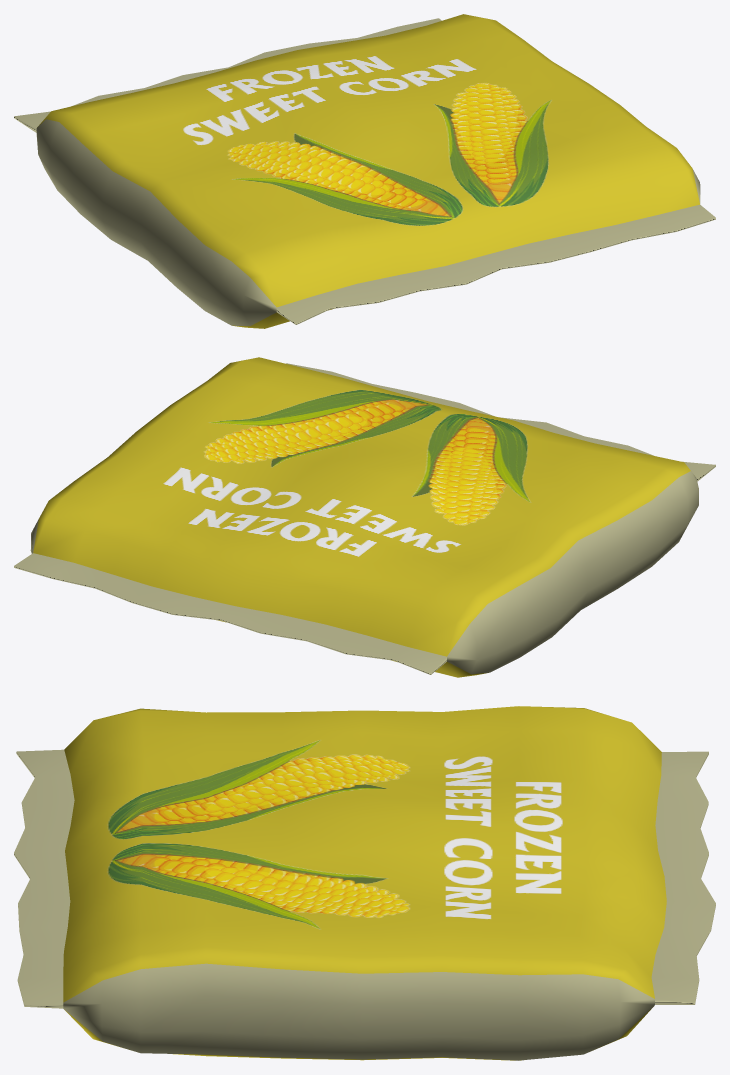
The model's file is Frozen Bag.fbx.
3 renders of one model, top to bottom at view 1: azimuth 30°, elevation 25°; view 2: azimuth 150°, elevation 25°; view 3: azimuth 270°, elevation 25°, orthographic. The views are drawn at different scales.
Parts seen in each view (by area): view 1: Frozen_Bag; view 2: Frozen_Bag; view 3: Frozen_Bag.
Part boxes in pixels (box(x1,y1,x2,y2)): Frozen_Bag: box(14, 14, 715, 328); Frozen_Bag: box(14, 357, 715, 677); Frozen_Bag: box(14, 706, 715, 1060).
Size of the model in its own units: 2.21 by 0.4381 by 2.36.
1 material, 1 textured.
